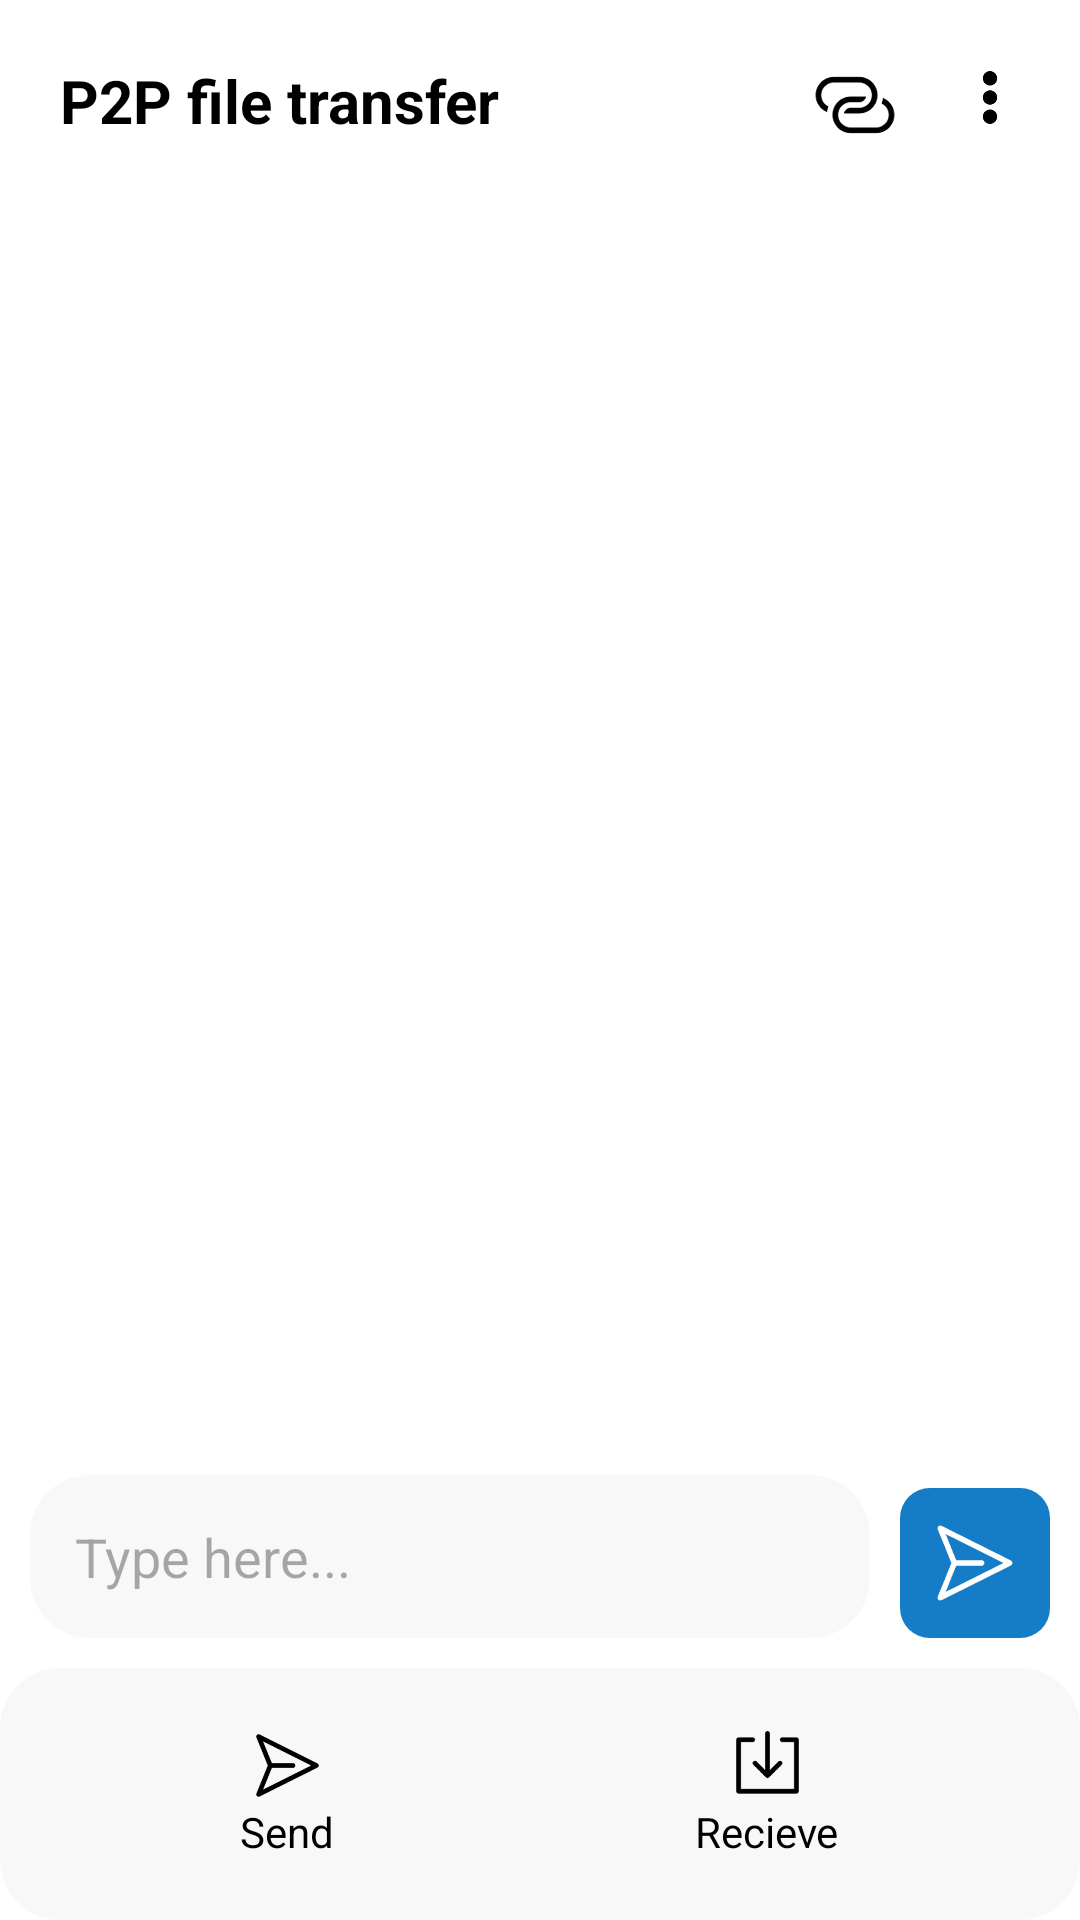

Where icons sit on this 1080*1920 app screen, as (x1, y1, x2, y2):
download: (736, 1731, 799, 1794)
sent whit: (937, 1525, 1013, 1601)
vertical: (983, 71, 997, 124)
